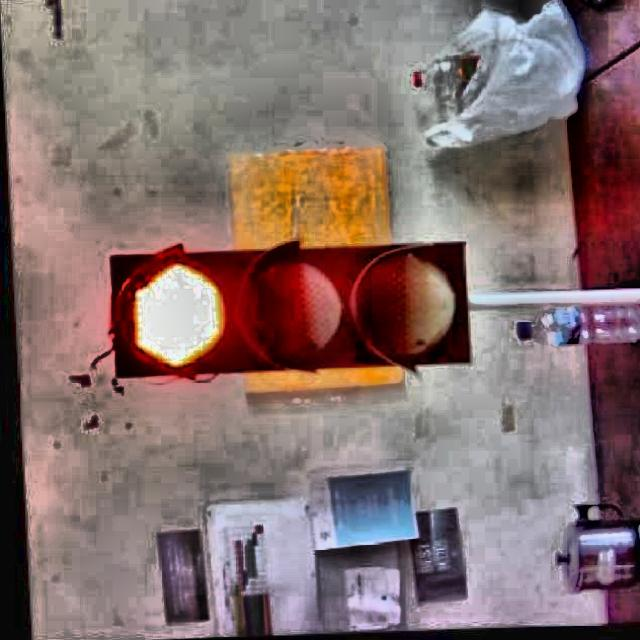red: (107, 239, 476, 366)
